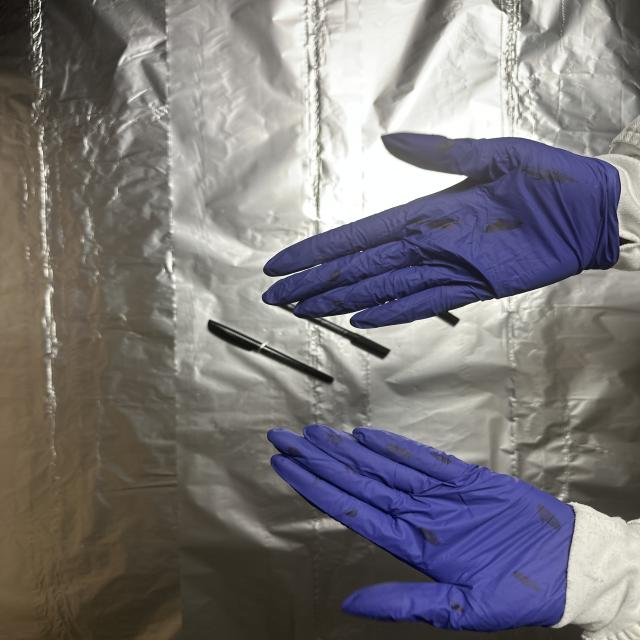gloves_contaminated: (263, 134, 620, 328), (268, 425, 575, 631)
